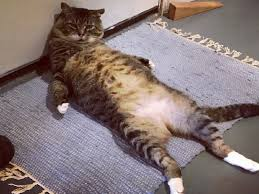cat: (51, 5, 117, 53)
